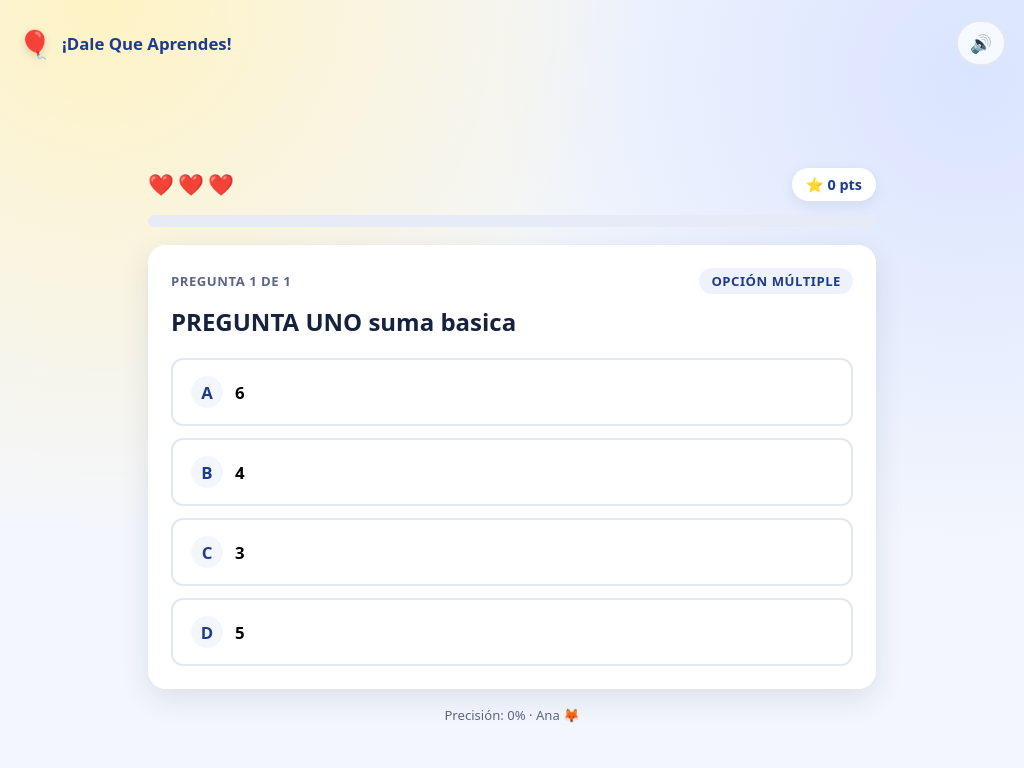
Juego del estudiante › muestra la explicación y avanza con una tarea de una sola pregunta
expect the text "PREGUNTA UNO suma basica" is shown: met, box [171,305,516,338]
Click the button with class "opcion" showing "B 4": (207, 472) [171,438,853,506]
(page scrolled)
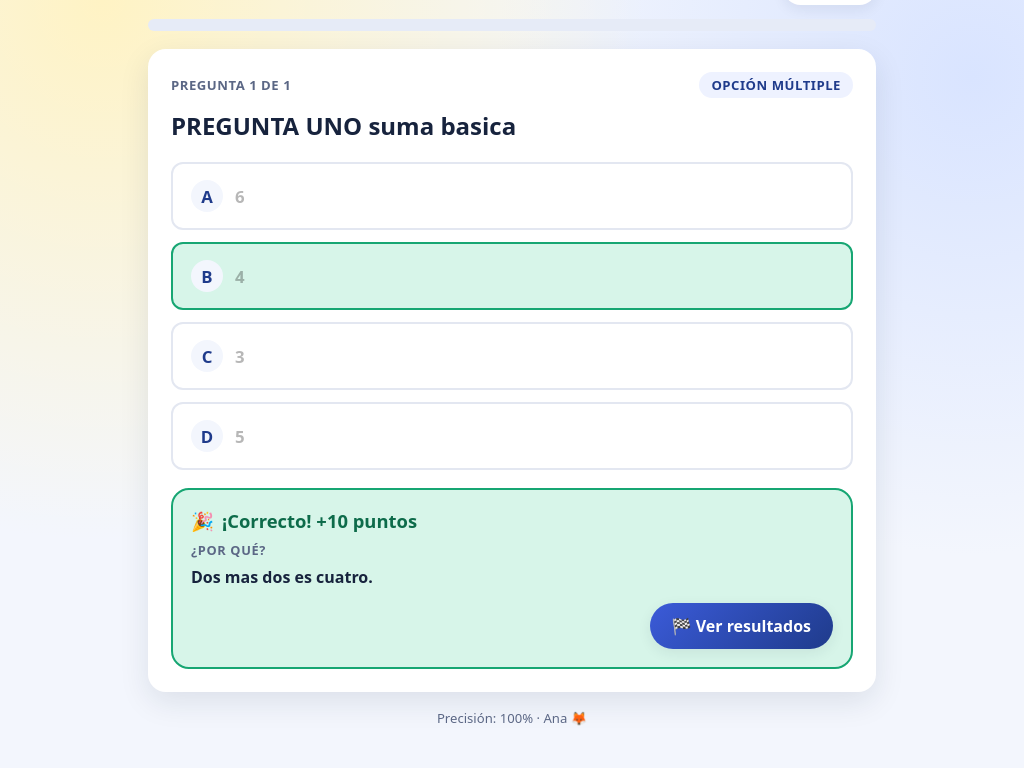
expect the element with class "retro" is shown: met, box [171,488,853,669]
expect the text "¿Por qué? Dos mas dos es cuatro." is shown: met, box [191,541,373,588]
Click the button "🏁 Ver resultados": (741, 626) [650,603,833,649]
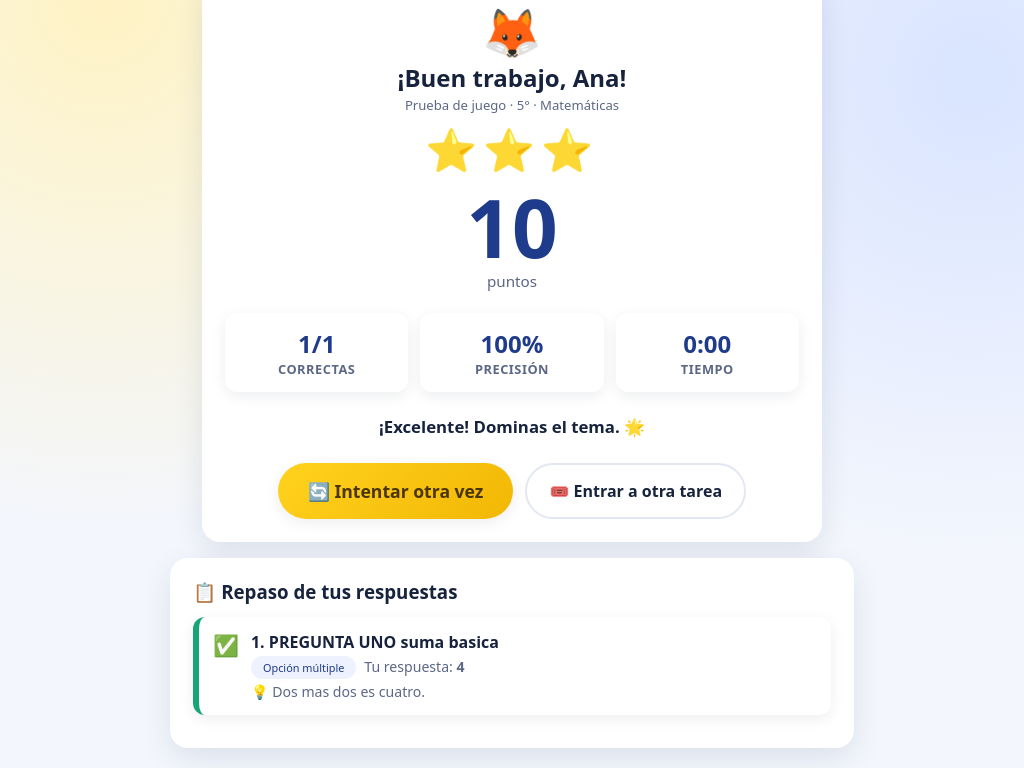
expect the heading "¡Buen trabajo, Ana!" is shown: met, box [398,61,626,94]
